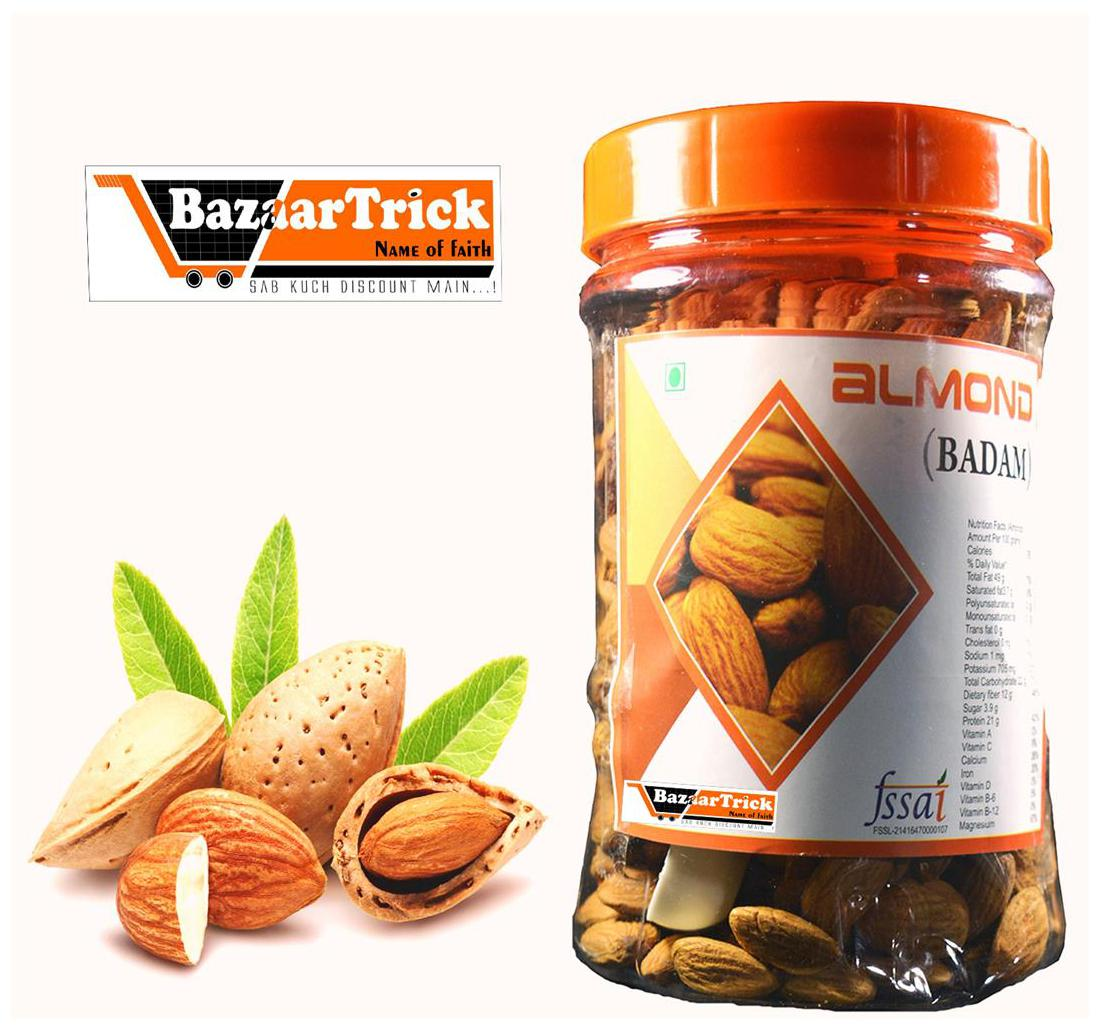JAR: (561, 90, 1074, 1020)
